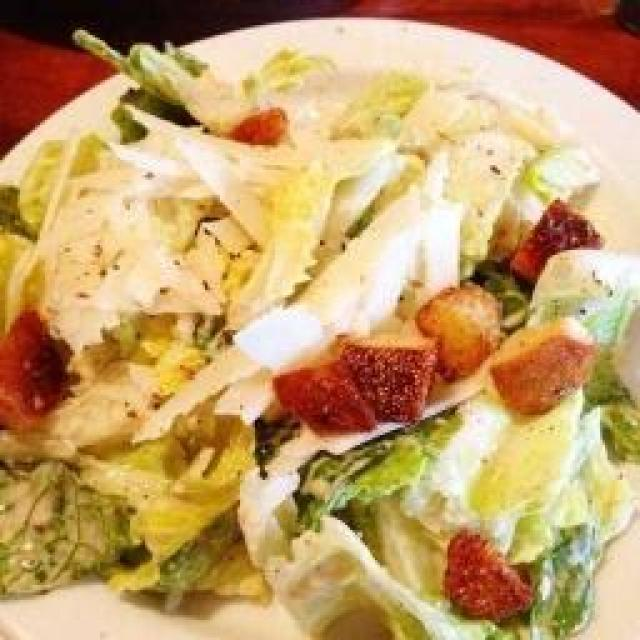Lettuce: (11, 32, 631, 638)
